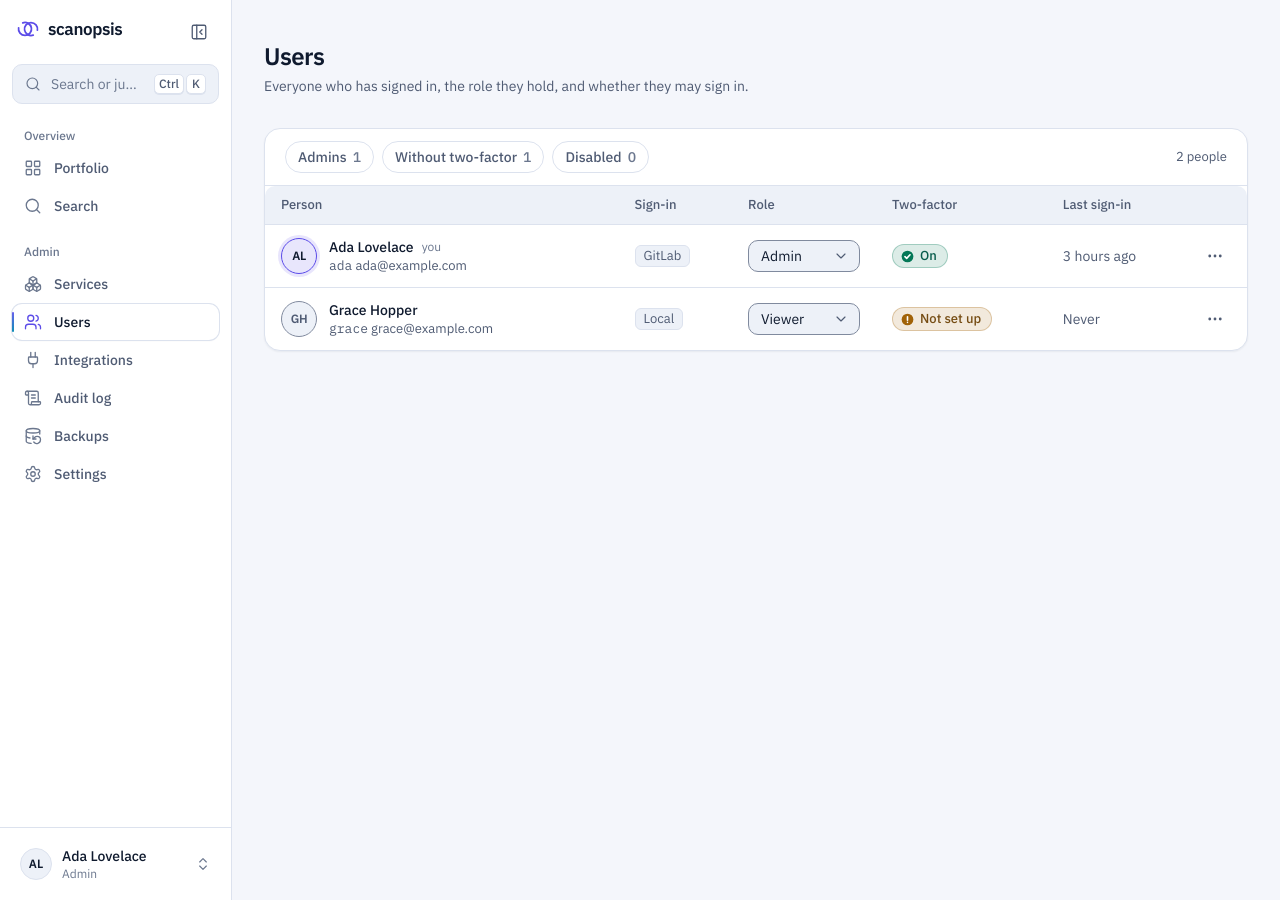
Test: users page › changes the role from the row menu
This screenshot has width=1280, height=900.
Press Enter in the button named "Actions for grace", box [1199,303,1231,335]
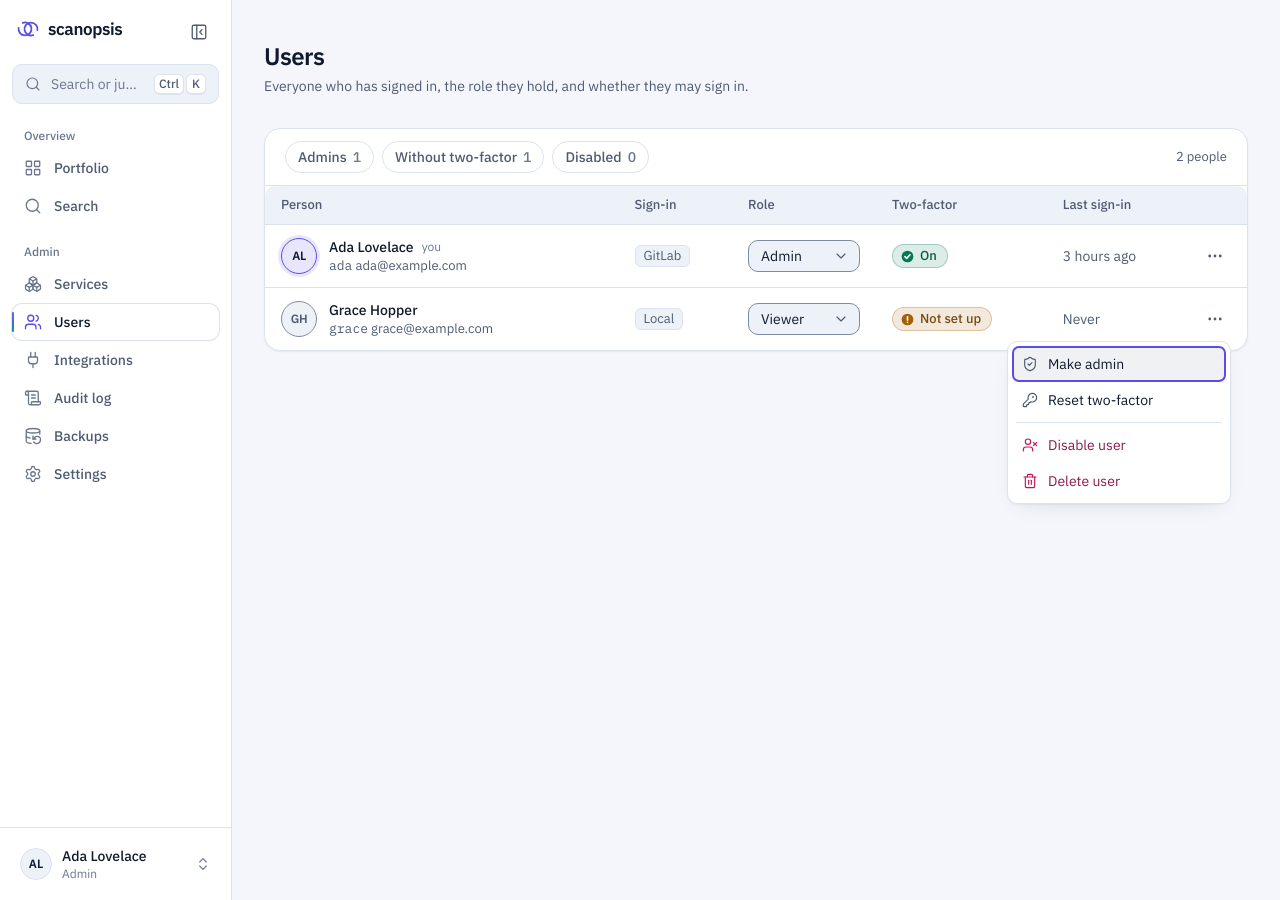
Click the menu item "Make admin" at {"x": 1119, "y": 364}, box [1012,346,1226,382]
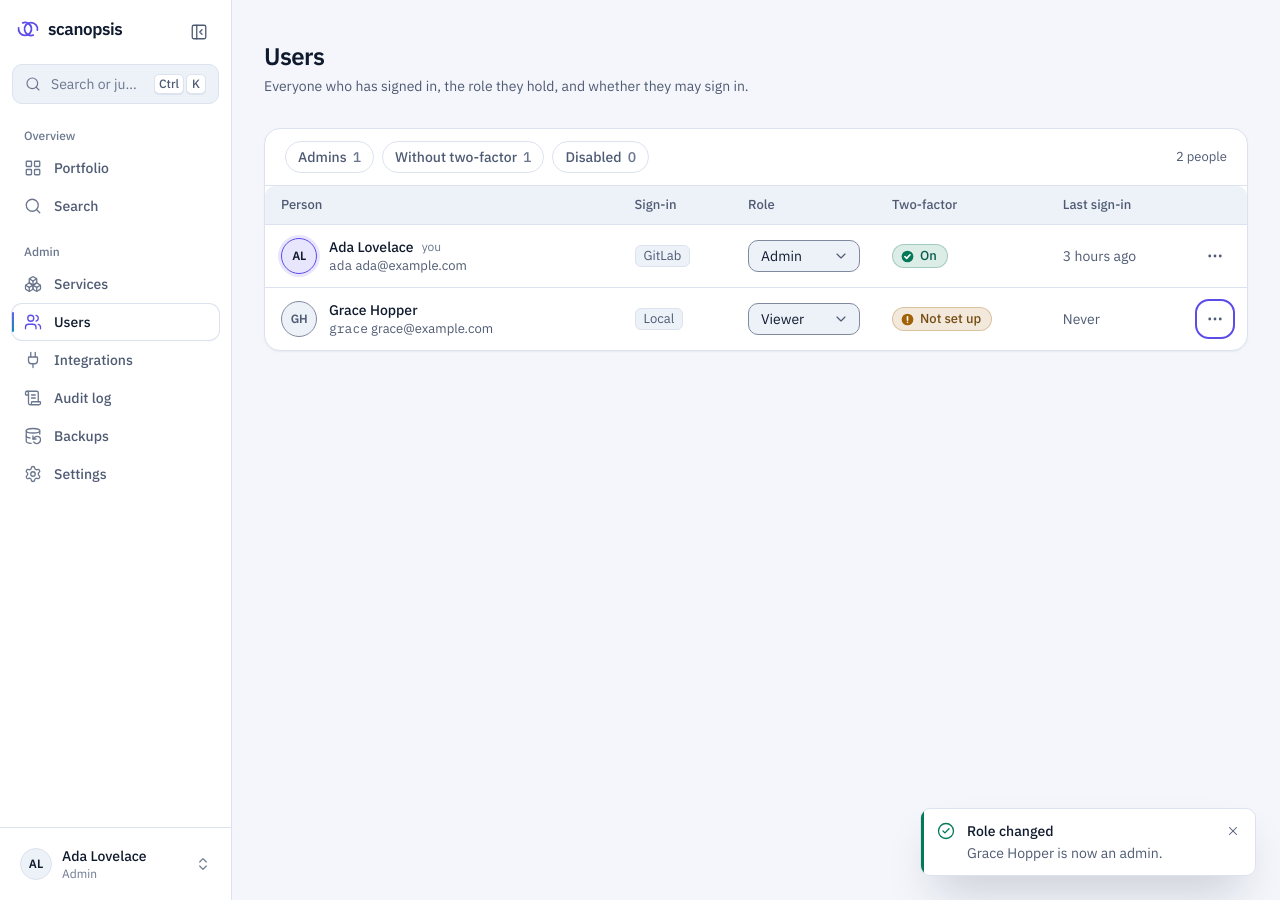
Result: the text "Role changed" is shown at [967,822,1054,840]
